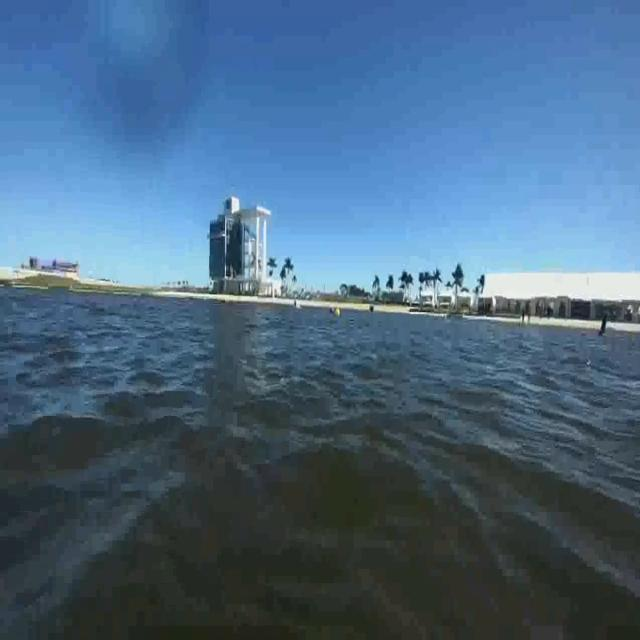yellow-buoy: (334, 301, 344, 321)
